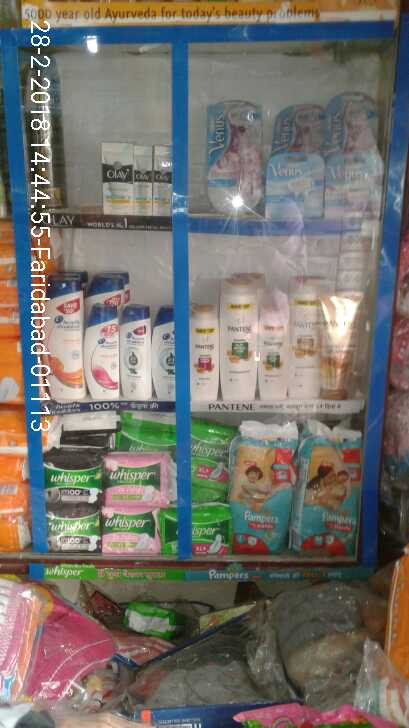venus: (208, 100, 260, 213), (267, 151, 325, 219), (328, 155, 388, 218), (331, 91, 379, 151), (272, 99, 325, 147)
